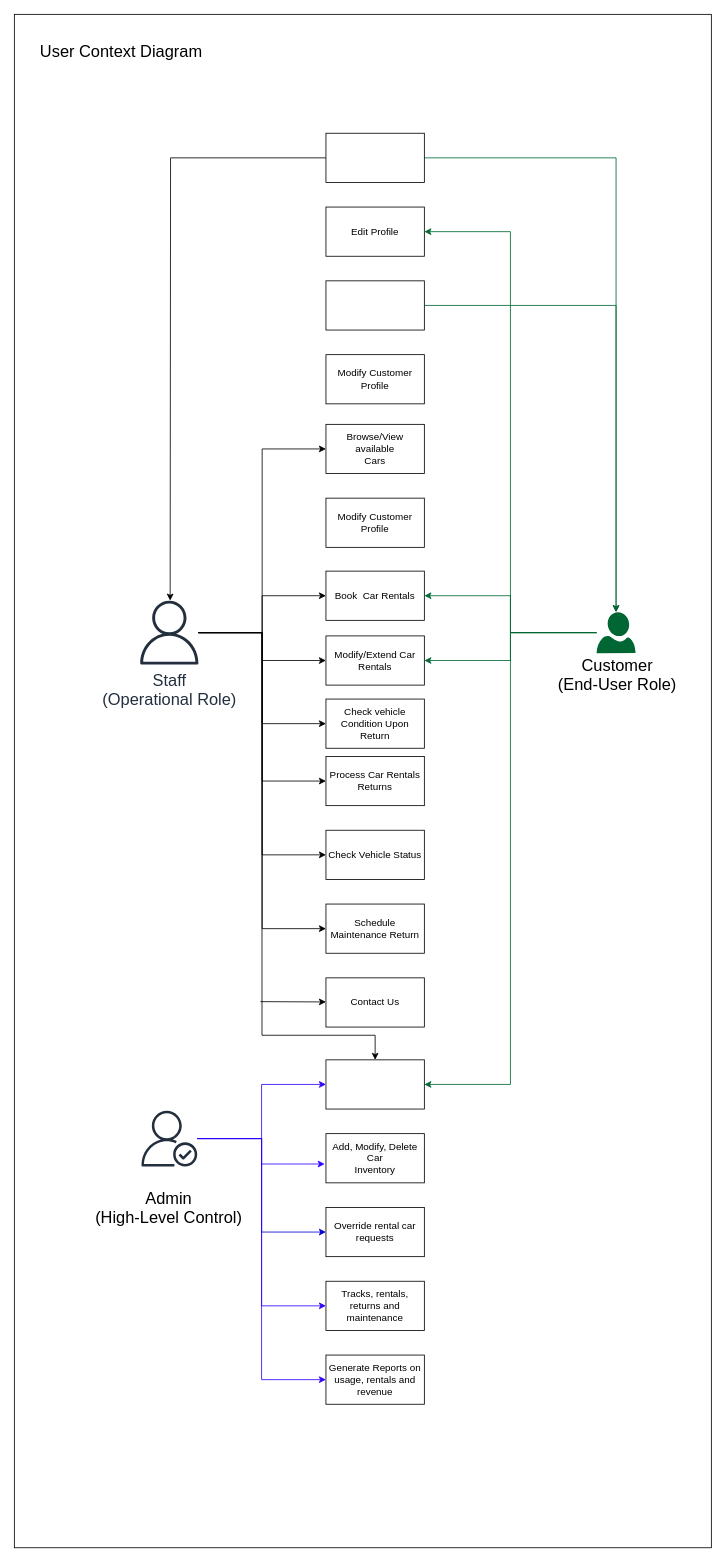
Image size: 726x1562. Some labels were removed from this diagram. The centre of each missing label's shape, as x and y in pixels:
"Make Payments" belongs at [374,305].
"Track Rental History" belongs at [374,157].
"User Authentication" belongs at [374,1084].
